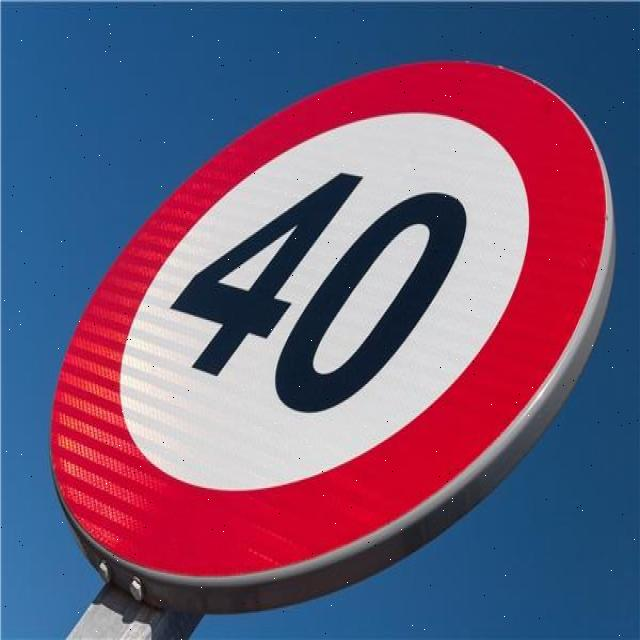speed limit 40: (47, 57, 616, 597)
